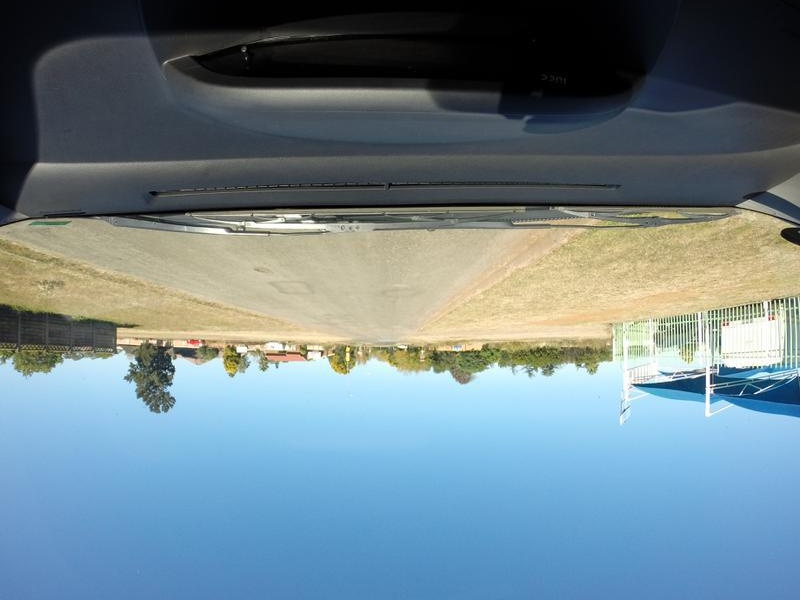pothole: (234, 256, 275, 282)
